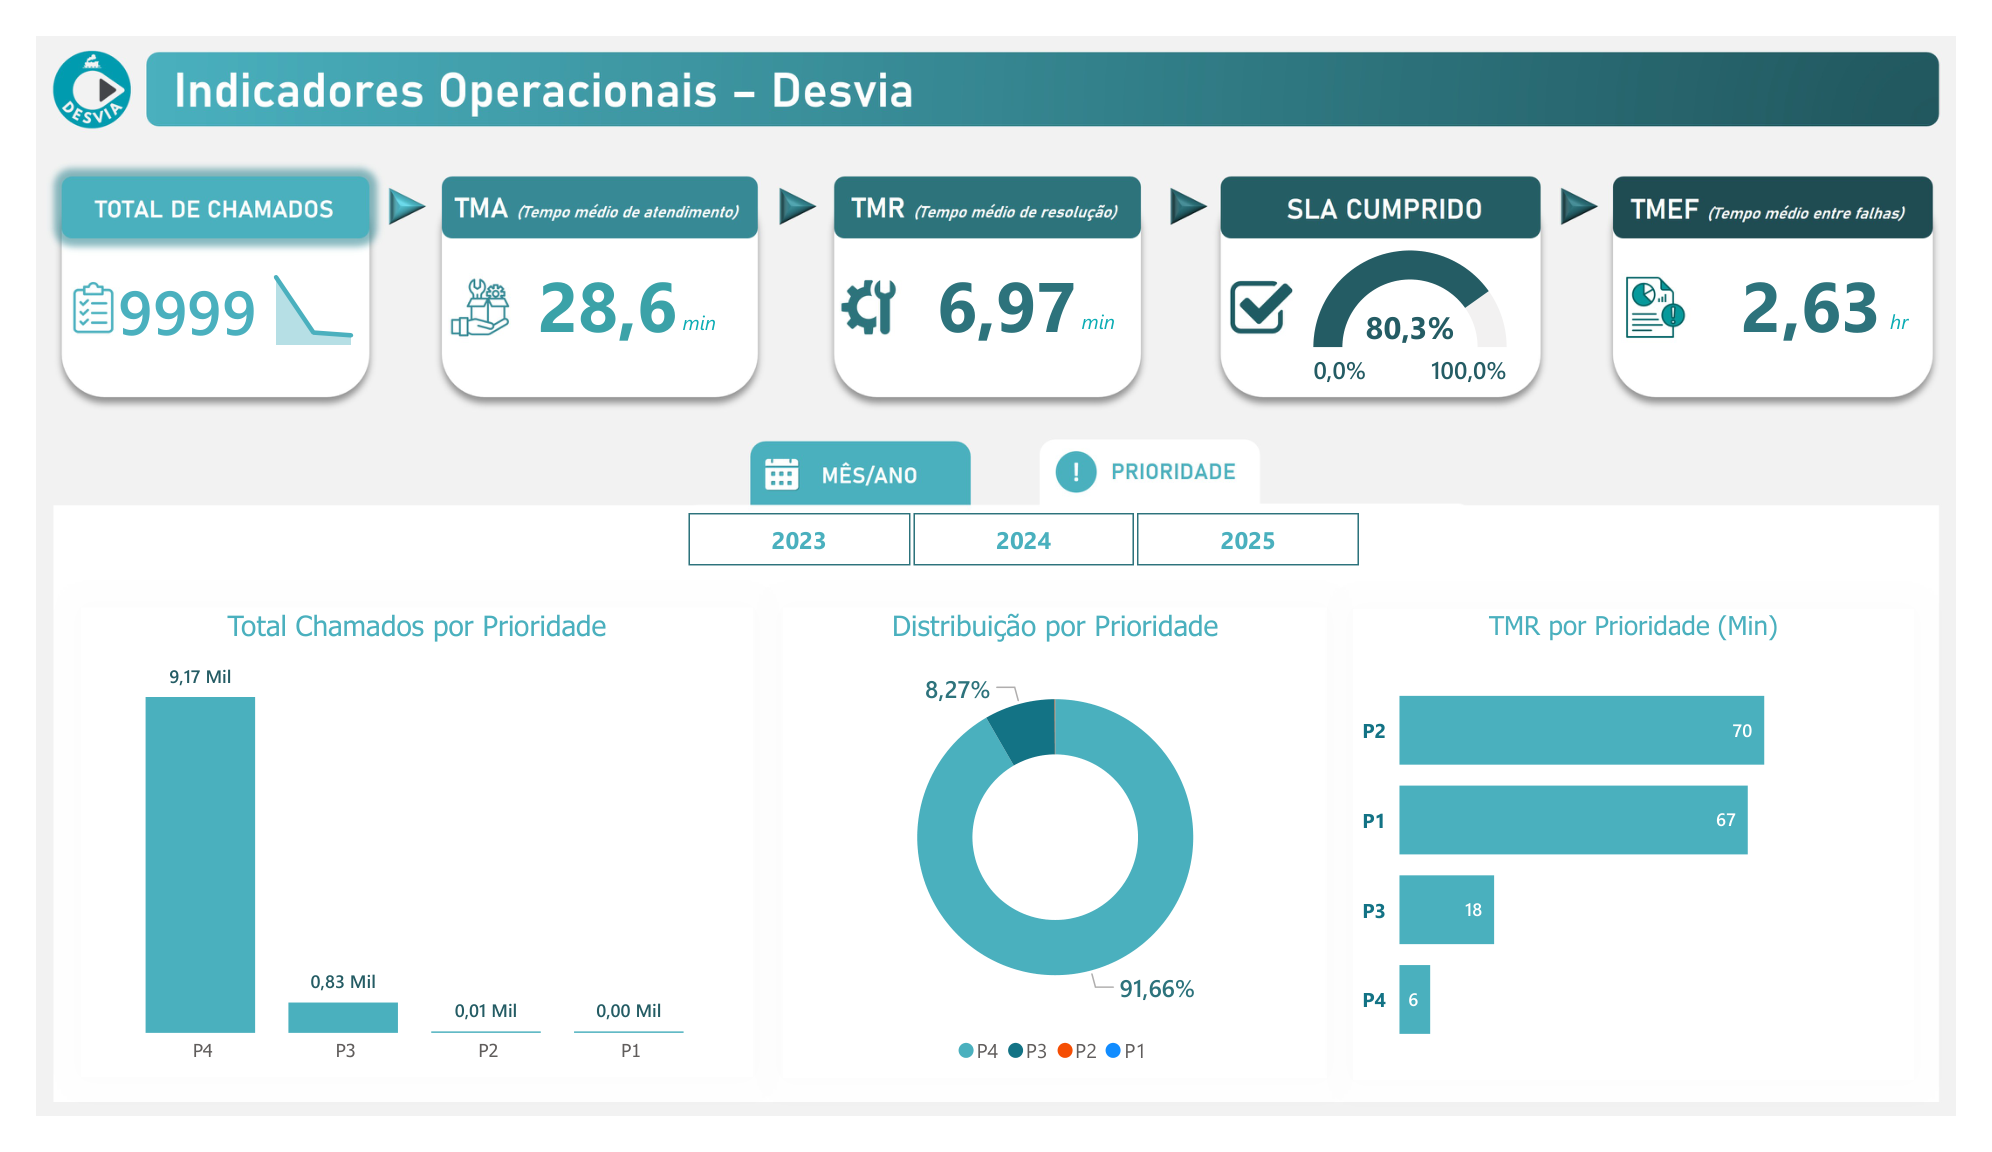

This screenshot's page, from the dashboard's own definition file:
{"tool":"powerbi","page":{"name":"PRIORIDADE","canvas":[1280,720],"ordinal":2},"visuals":[{"type":"columnChart","title":"Total Chamados por Prioridade","fields":{"Y":["CountNonNull(BaseDados.ID Chamado)"],"Category":["BaseDados.Prioridade"]},"box":[30.2,381.2,447.6,312.5],"z":0},{"type":"donutChart","title":"Distribuição por Prioridade","fields":{"Y":["CountNonNull(BaseDados.ID Chamado)"],"Category":["BaseDados.Prioridade"]},"box":[498.3,381.2,363.1,313.7],"z":1000},{"type":"clusteredBarChart","title":"TMR por Prioridade (Min)","fields":{"Y":["BaseDados.TMR - Tempo Médio de Resolução (H)"],"Category":["BaseDados.Prioridade"]},"box":[878.3,382.4,374,313.7],"z":2000},{"type":"slicer","fields":{"Values":["BaseDados.Ano"]},"box":[409.3,311.2,496.9,48.4],"z":3000},{"type":"shape","box":[478,271.7,143.5,39.7],"z":4000},{"type":"card","fields":{"Values":["BaseDados.Total de Chamados"]},"box":[42.7,155.2,116.4,55.6],"z":5000},{"type":"stackedAreaChart","fields":{"Y":["CountNonNull(BaseDados.ID Chamado)"],"Category":["BaseDados.Data Abertura.Variation.Hierarquia de datas.Ano"]},"box":[144.8,134.5,80.2,76.3],"z":6000},{"type":"card","fields":{"Values":["BaseDados.Tempo Médio de Resolução h (TMR)"]},"box":[552.2,128,190.1,99.6],"z":7000},{"type":"card","fields":{"Values":["BaseDados.TMA - Tempo Médio Atendimento (H)"]},"box":[284.5,134.5,192.7,87.9],"z":8000},{"type":"gauge","fields":{"Y":["BaseDados.% SLA Cumprido"]},"box":[813.4,138.4,205.6,106],"z":9000},{"type":"card","fields":{"Values":["BaseDados.TMEF (h)"]},"box":[1088.5,127.9,190.3,99.6],"z":10000},{"type":"shape","box":[265.1,90.5,212.1,37.5],"z":11000},{"type":"shape","box":[530.2,90.5,212.1,37.5],"z":12000},{"type":"shape","box":[800.5,90.5,212.1,37.5],"z":13000},{"type":"shape","box":[1065.6,90.5,212.1,37.5],"z":14000},{"type":"textbox","box":[425.9,177.3,63.9,35],"z":14001},{"type":"textbox","box":[692.5,176.1,63.9,35],"z":14002},{"type":"textbox","box":[1230.5,176.1,49.5,35],"z":14003}]}

Visuals, with their boxes in screenshot pixels (x1, y1, x2, y2), scaled from the page's 1280x720 canvas onto the 1992x1152 screenshot:
"Total Chamados por Prioridade" columnChart: rect(47, 610, 744, 1110)
"Distribuição por Prioridade" donutChart: rect(775, 610, 1341, 1112)
"TMR por Prioridade (Min)" clusteredBarChart: rect(1367, 612, 1949, 1114)
slicer - BaseDados.Ano: rect(637, 498, 1410, 575)
shape: rect(744, 435, 967, 498)
card - BaseDados.Total de Chamados: rect(66, 248, 248, 337)
stackedAreaChart - CountNonNull(BaseDados.ID Chamado) x BaseDados.Data Abertura.Variation.Hierarquia de datas.Ano: rect(225, 215, 350, 337)
card - BaseDados.Tempo Médio de Resolução h (TMR): rect(859, 205, 1155, 364)
card - BaseDados.TMA - Tempo Médio Atendimento (H): rect(443, 215, 743, 356)
gauge - BaseDados.% SLA Cumprido: rect(1266, 221, 1586, 391)
card - BaseDados.TMEF (h): rect(1694, 205, 1990, 364)
shape: rect(413, 145, 743, 205)
shape: rect(825, 145, 1155, 205)
shape: rect(1246, 145, 1576, 205)
shape: rect(1658, 145, 1988, 205)
textbox: rect(663, 284, 762, 340)
textbox: rect(1078, 282, 1177, 338)
textbox: rect(1915, 282, 1991, 338)
